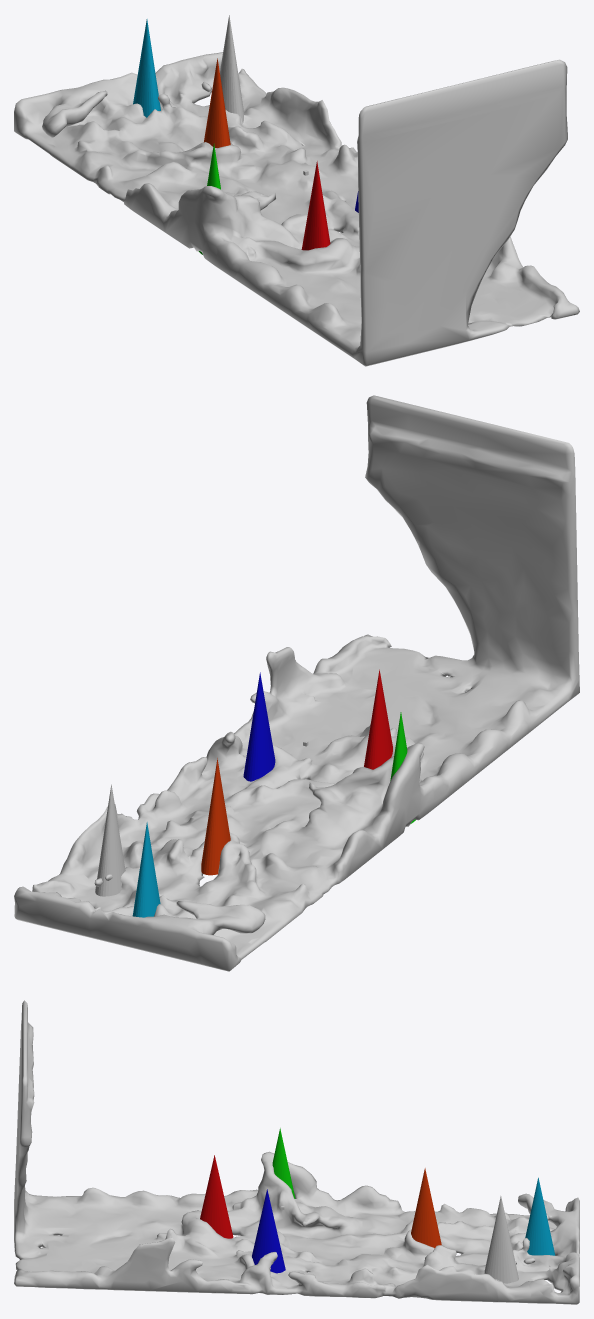
The picture shows the model from 3 angles, top to bottom: view 1: azimuth 30°, elevation 25°; view 2: azimuth 150°, elevation 25°; view 3: azimuth 270°, elevation 25°; orthographic projection. The views are drawn at different scales.
Visible parts, largest first — view 1: Liquid_Domain, 円錐.005, 円錐, 円錐.001, 円錐.004; view 2: Liquid_Domain, 円錐.002, 円錐, 円錐.004, 円錐.001, 円錐.005; view 3: Liquid_Domain, 円錐, 円錐.001, 円錐.002, 円錐.004, 円錐.005, 円錐.003.
Part boxes in pixels (box(x1,y1,x2,y2)): Liquid_Domain: box(14, 52, 579, 366); 円錐.005: box(133, 19, 160, 117); 円錐: box(220, 15, 244, 123); 円錐.001: box(301, 161, 330, 250); 円錐.004: box(204, 58, 230, 147); Liquid_Domain: box(14, 395, 579, 971); 円錐.002: box(243, 672, 275, 781); 円錐: box(95, 784, 125, 896); 円錐.004: box(201, 758, 230, 875); 円錐.001: box(364, 669, 392, 769); 円錐.005: box(132, 822, 160, 917); Liquid_Domain: box(14, 1000, 579, 1304); 円錐: box(484, 1196, 518, 1283); 円錐.001: box(200, 1155, 233, 1238); 円錐.002: box(252, 1189, 285, 1273); 円錐.004: box(411, 1168, 441, 1248); 円錐.005: box(525, 1177, 555, 1255); 円錐.003: box(272, 1128, 295, 1198).
Bounding box in the file's own units: 129 × 158 × 361.
